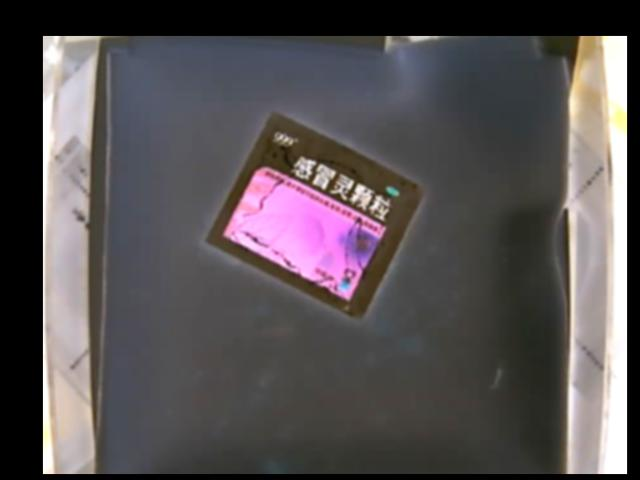Medicine: (199, 110, 419, 320)
